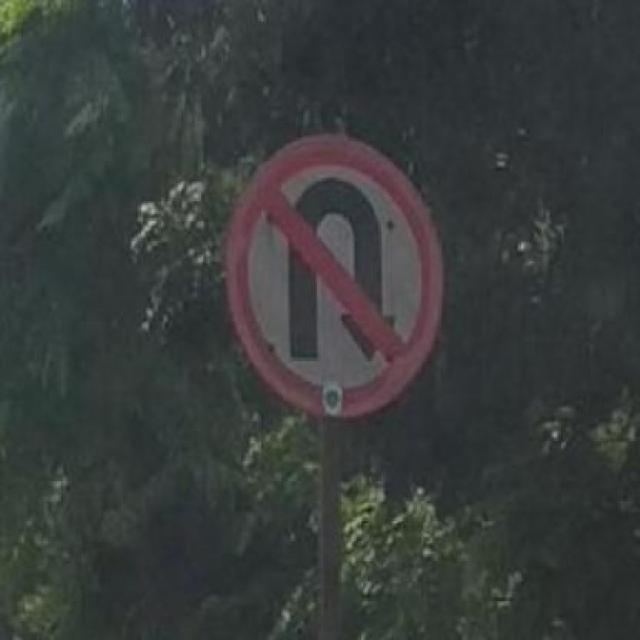u turn prohibited: (237, 119, 441, 424)
